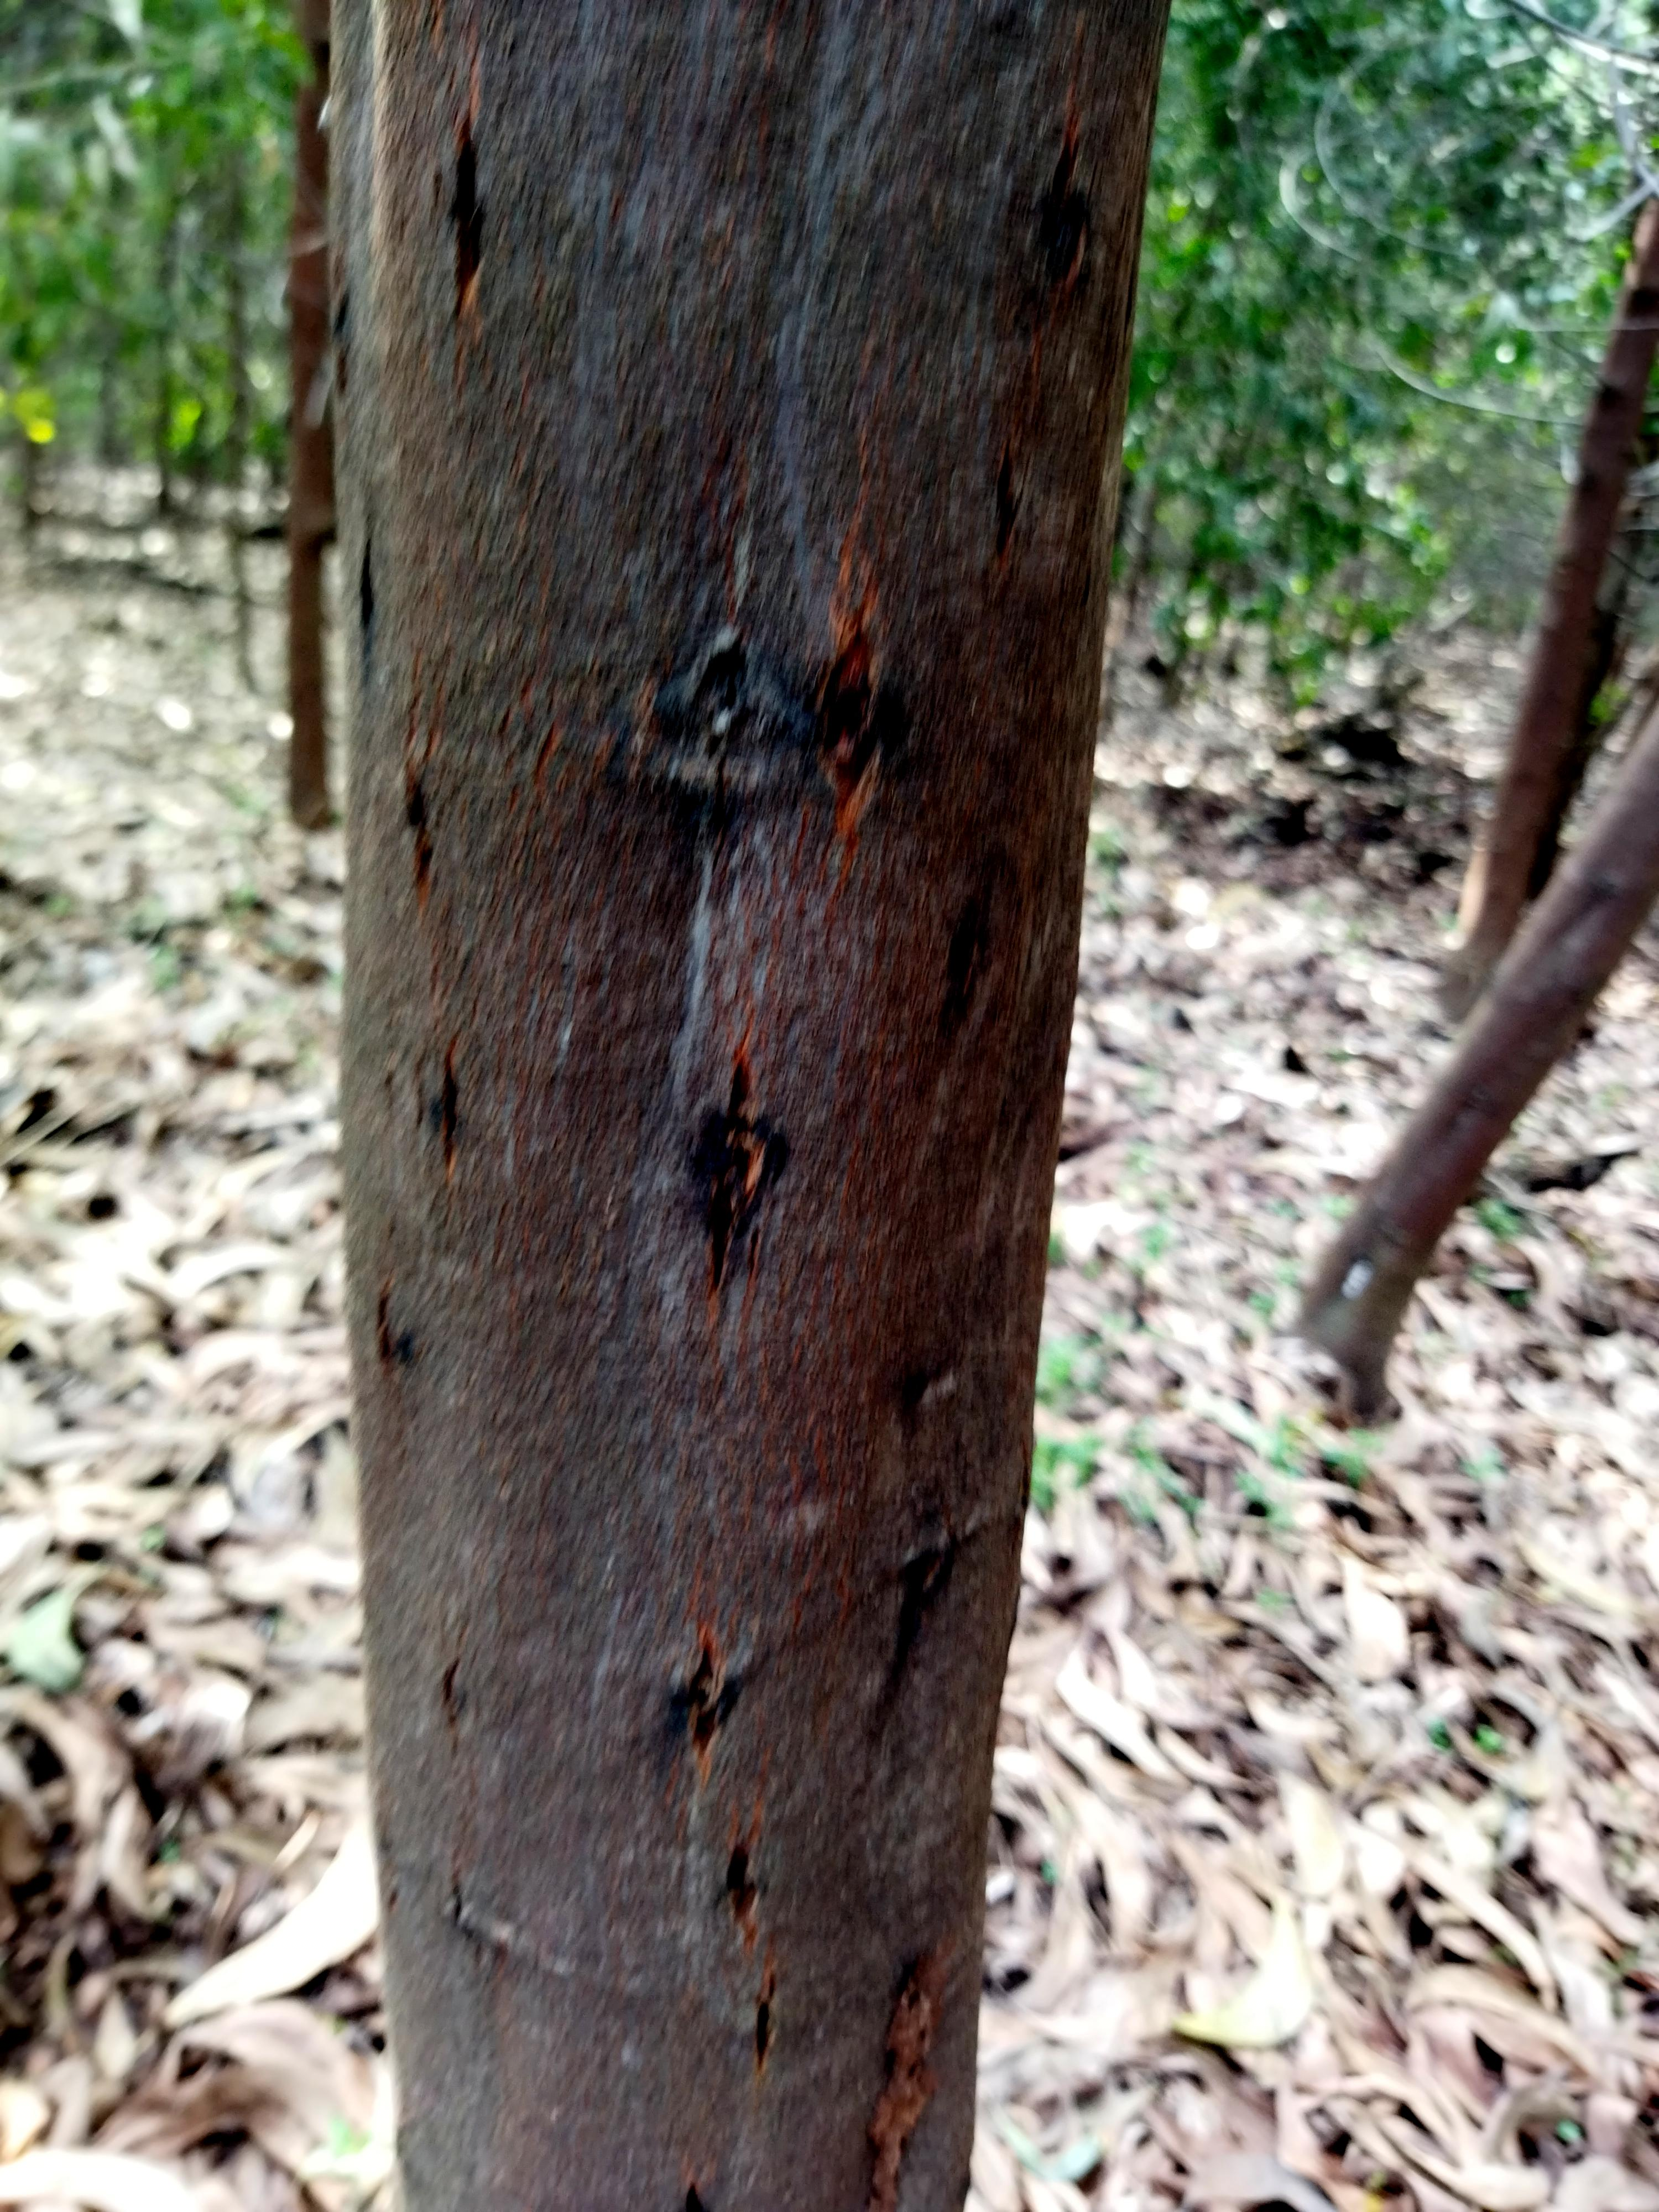Stem Borer: (620, 1594, 802, 2155), (643, 587, 934, 862), (383, 73, 603, 380), (974, 117, 1161, 348), (653, 1052, 810, 1318), (880, 1914, 1006, 2212), (864, 1527, 1014, 1757), (383, 1029, 523, 1230), (338, 1278, 471, 1420), (371, 747, 457, 916), (958, 455, 1072, 566)
